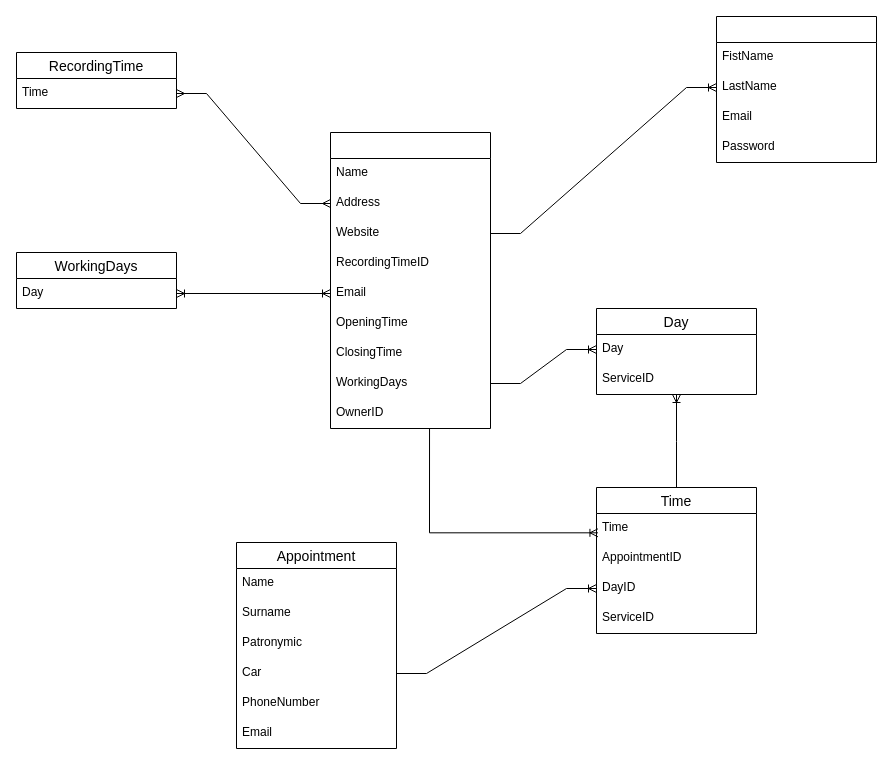
The diagram is 893 pixels wide and 765 high, and some of its shapes have lost their labels. Each missing label, with the box of its shape:
Owner: (716, 16, 876, 162)
Service: (330, 132, 490, 428)
